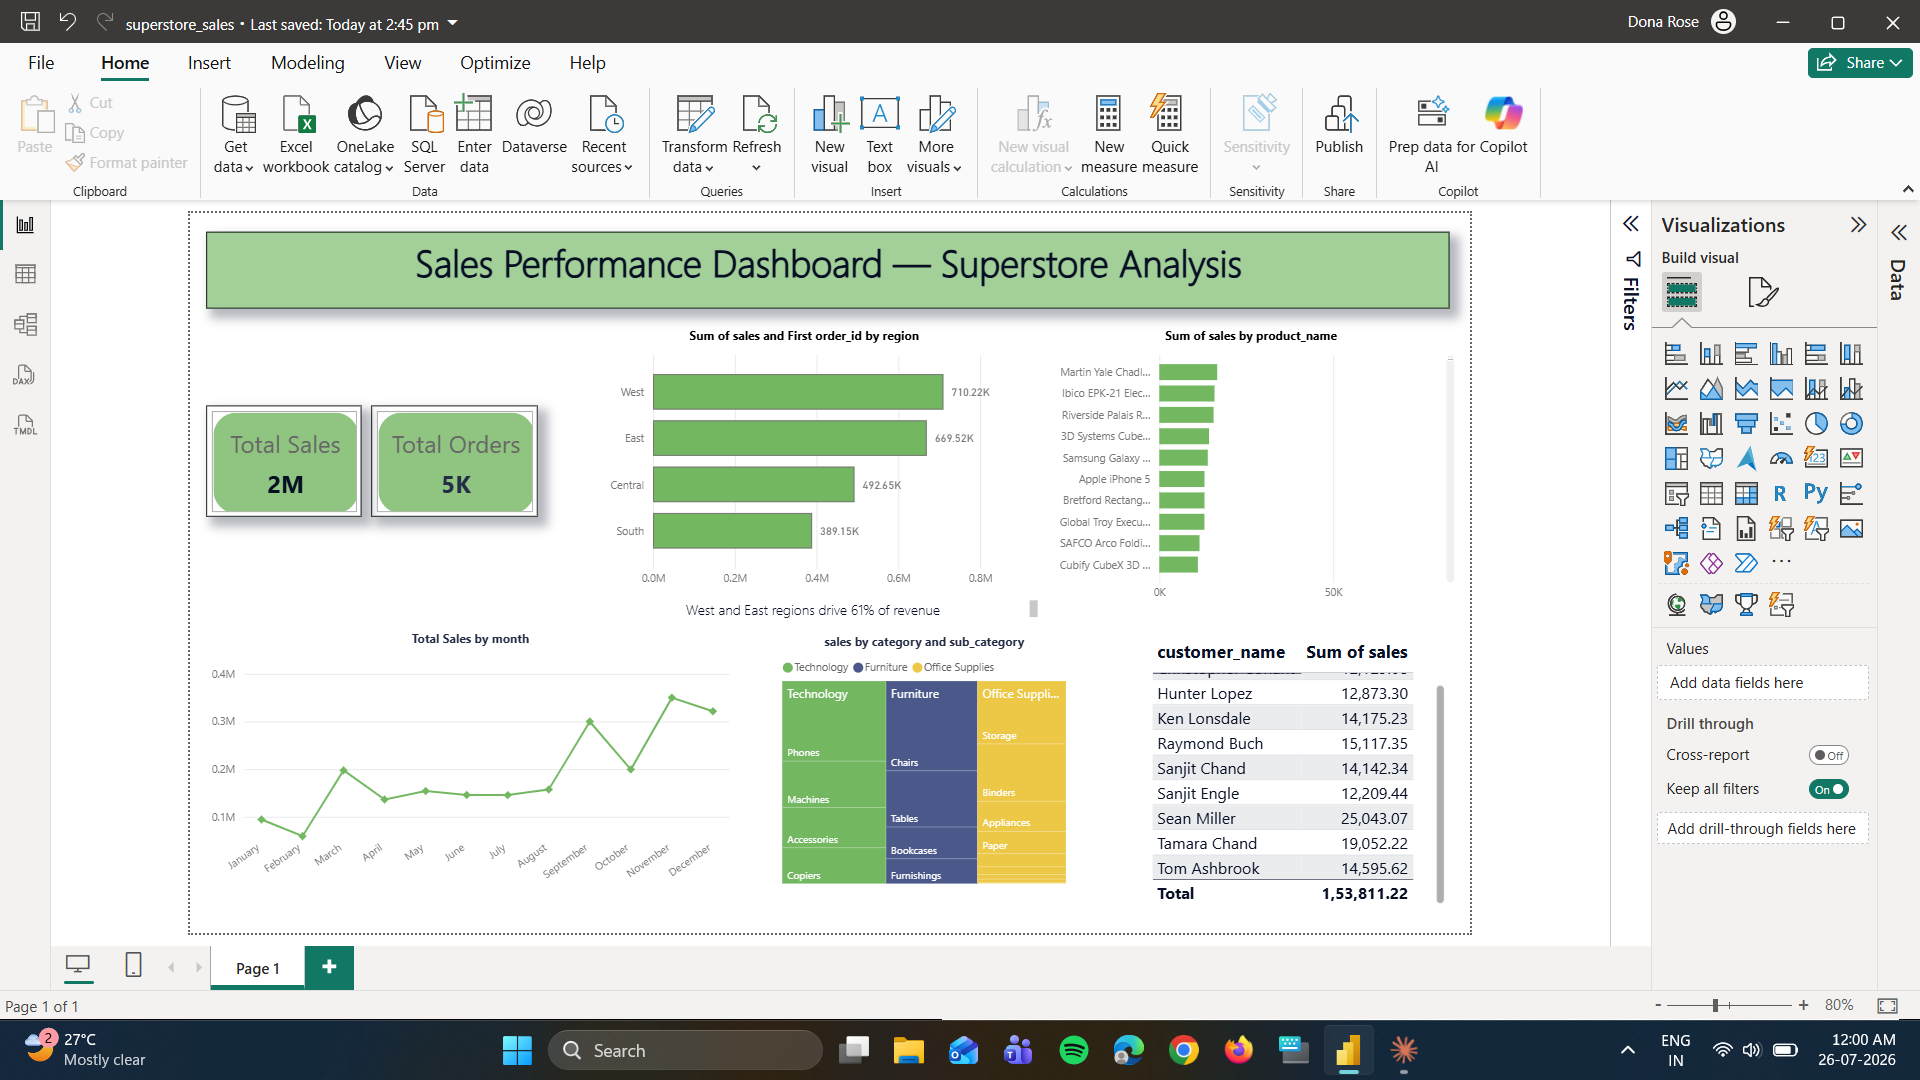

This screenshot's page, from the dashboard's own definition file:
{"tool":"powerbi","page":{"name":"Page 1","canvas":[1280,720],"ordinal":0},"visuals":[{"type":"cardVisual","fields":{"Data":["Sum(sales_project orders.sales)"]},"box":[16.5,192.1,155.1,111.1],"z":0},{"type":"cardVisual","fields":{"Data":["Count(sales_project orders.order_id)"]},"box":[181.1,192.1,166,111.1],"z":1000},{"type":"tableEx","fields":{"Values":["sales_project orders.customer_name","Sum(sales_project orders.sales)"]},"box":[956.4,419.9,303.3,275.8],"z":2000},{"type":"treemap","title":"sales by category and sub_category","fields":{"Details":["sales_project orders.sub_category"],"Group":["sales_project orders.category"],"Values":["Sum(sales_project orders.sales)"]},"box":[587.3,419.9,293.7,255.2],"z":3000},{"type":"lineChart","title":"Total Sales by month","fields":{"Category":["sales_project orders.order_date_fixed.Variation.Date Hierarchy.Month"],"Y":["Sum(sales_project orders.sales)"]},"box":[16.5,417.2,528.3,260.7],"z":4000},{"type":"clusteredBarChart","fields":{"Category":["sales_project orders.region"],"Y":["Sum(sales_project orders.sales)"]},"box":[435,127.6,406.2,269],"z":5000},{"type":"clusteredBarChart","fields":{"Category":["sales_project orders.product_name"],"Y":["Sum(sales_project orders.sales)"]},"box":[863.1,127.6,417.2,282.7],"z":6000},{"type":"textbox","box":[16.5,19.2,1243.2,76.8],"z":6001}]}

Visuals, with their boxes on the page's 1280x720 design canvas (x1, y1, x2, y2). These are canvas units, not pixel positions in the 1920x1080 screenshot, which may show the page scaled, cropped or inside an application window:
cardVisual - Sum(sales_project orders.sales): 16,192,172,303
cardVisual - Count(sales_project orders.order_id): 181,192,347,303
tableEx - sales_project orders.customer_name x Sum(sales_project orders.sales): 956,420,1260,696
"sales by category and sub_category" treemap: 587,420,881,675
"Total Sales by month" lineChart: 16,417,545,678
clusteredBarChart - sales_project orders.region x Sum(sales_project orders.sales): 435,128,841,397
clusteredBarChart - sales_project orders.product_name x Sum(sales_project orders.sales): 863,128,1280,410
textbox: 16,19,1260,96
